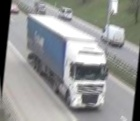truck: (16, 13, 112, 110), (98, 23, 125, 50)
